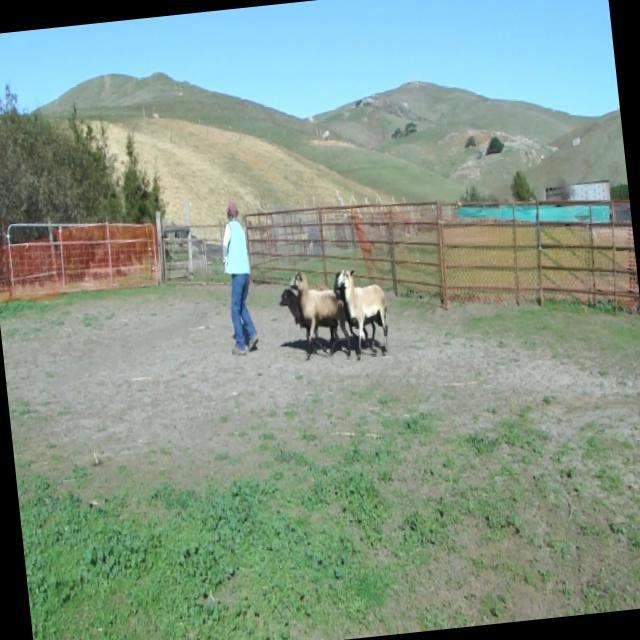sheep: (282, 271, 345, 347)
